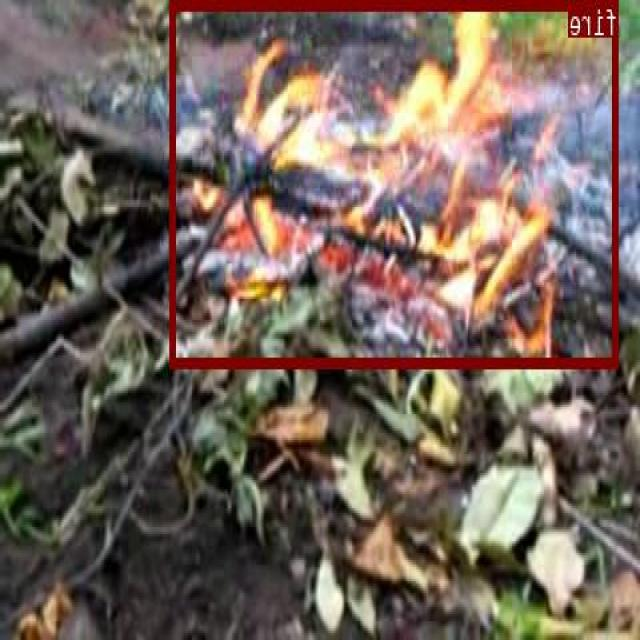fire: (171, 0, 618, 365)
